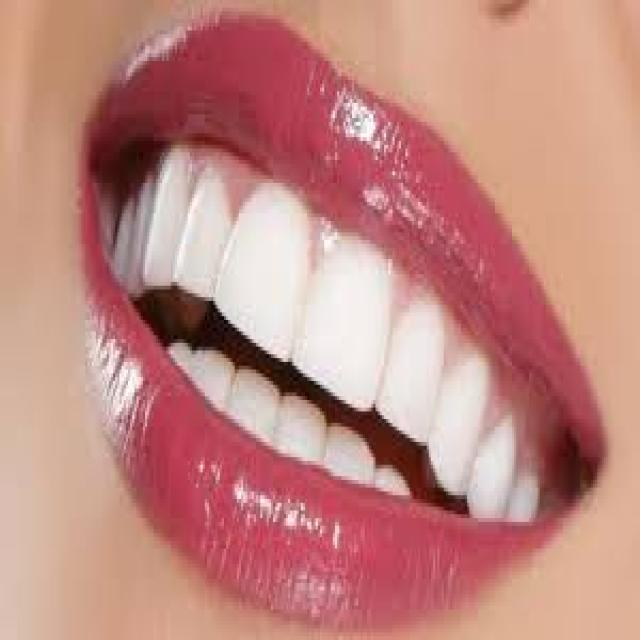tooth: (326, 248, 376, 400), (241, 198, 292, 339), (399, 312, 429, 442), (149, 160, 173, 286), (188, 179, 213, 293), (282, 400, 326, 457), (476, 442, 510, 510), (440, 400, 467, 484), (239, 377, 275, 438), (337, 434, 376, 480), (115, 190, 128, 286), (205, 358, 228, 404), (134, 183, 143, 282), (518, 484, 538, 518), (384, 468, 407, 492), (175, 346, 192, 369)
